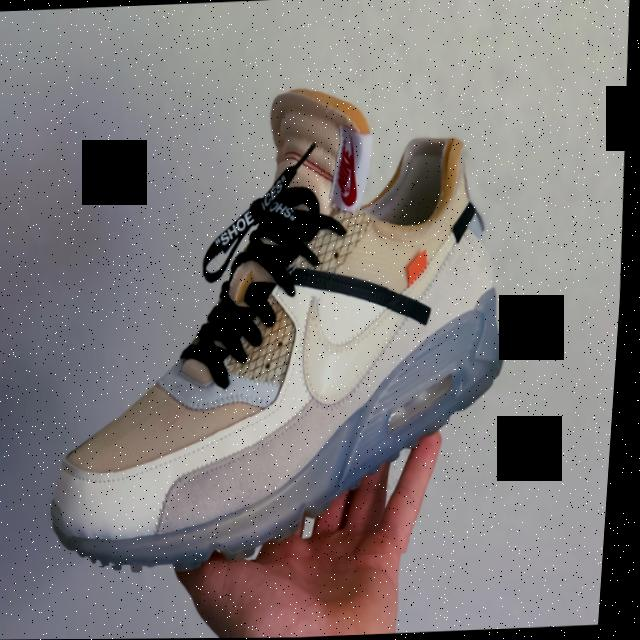shoe: (30, 59, 538, 568)
